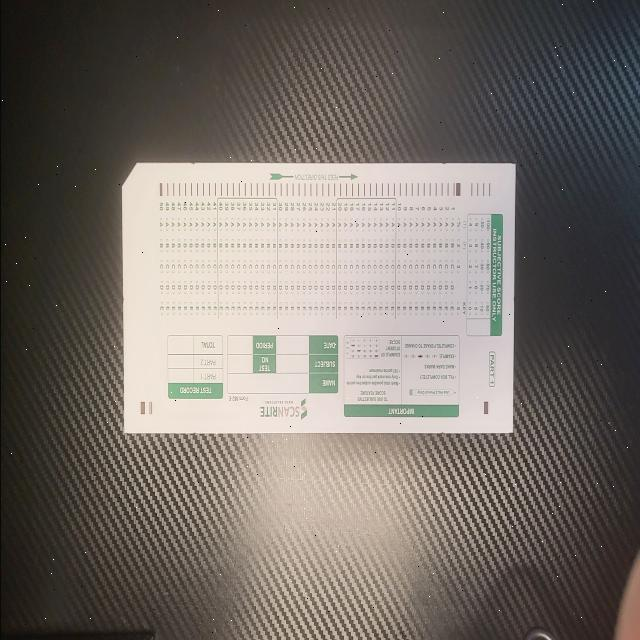scantron: (121, 159, 516, 434)
